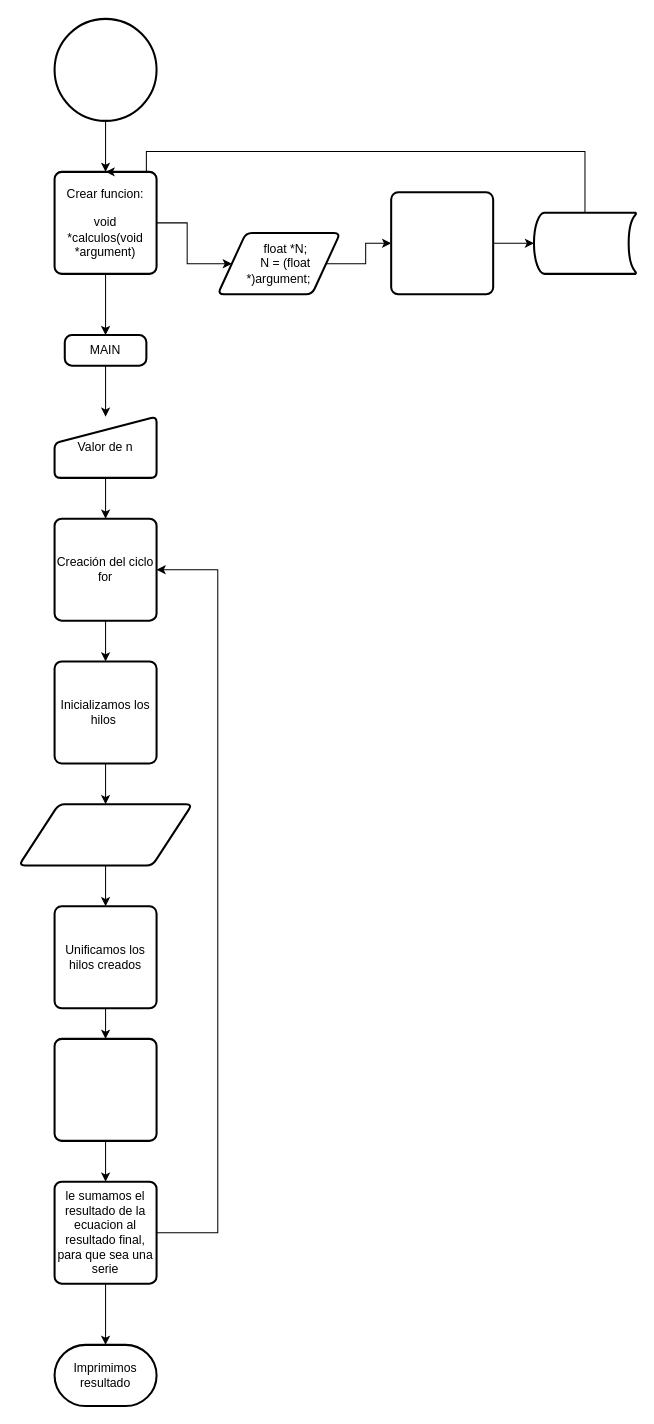
Image size: 654x1424. Some labels were removed from this diagram. The shapes that lost their labels are listed below. From the top down, each one's box as (x1, y1, x2, y2) in pixels, then its label:
(53, 17, 157, 121): Start
(390, 191, 494, 295): Realizamos la serie: 1((1) / n(n + 1))
(532, 211, 636, 274): return output
(17, 803, 193, 866): guardar el puntero de retorno void *exit_value;
(53, 1037, 157, 1141): regresamos los datos de void* a float*
